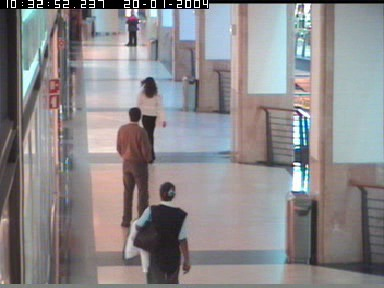person: (122, 181, 190, 284), (116, 106, 152, 229), (133, 75, 167, 160), (125, 14, 139, 46)
